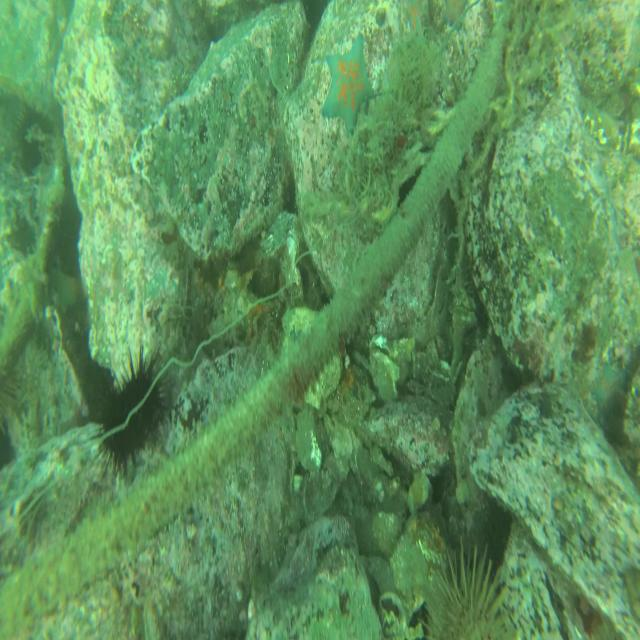echinus: (90, 343, 170, 475), (412, 542, 514, 640)
starfish: (318, 34, 380, 137)
